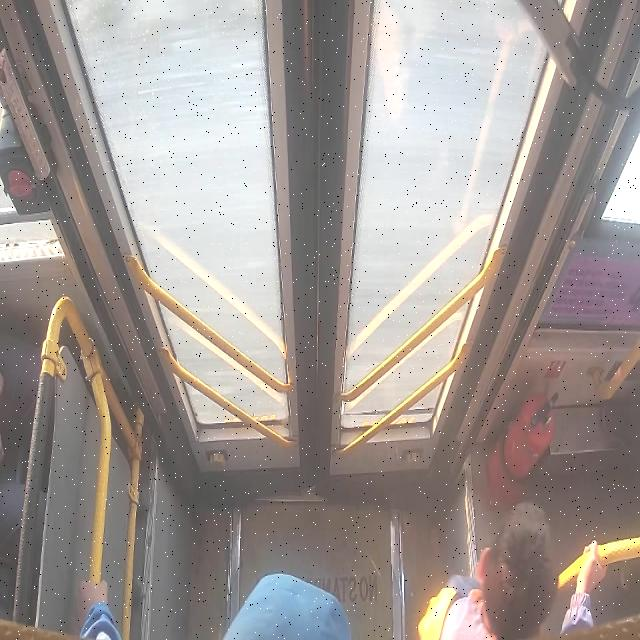close: (61, 1, 563, 487)
